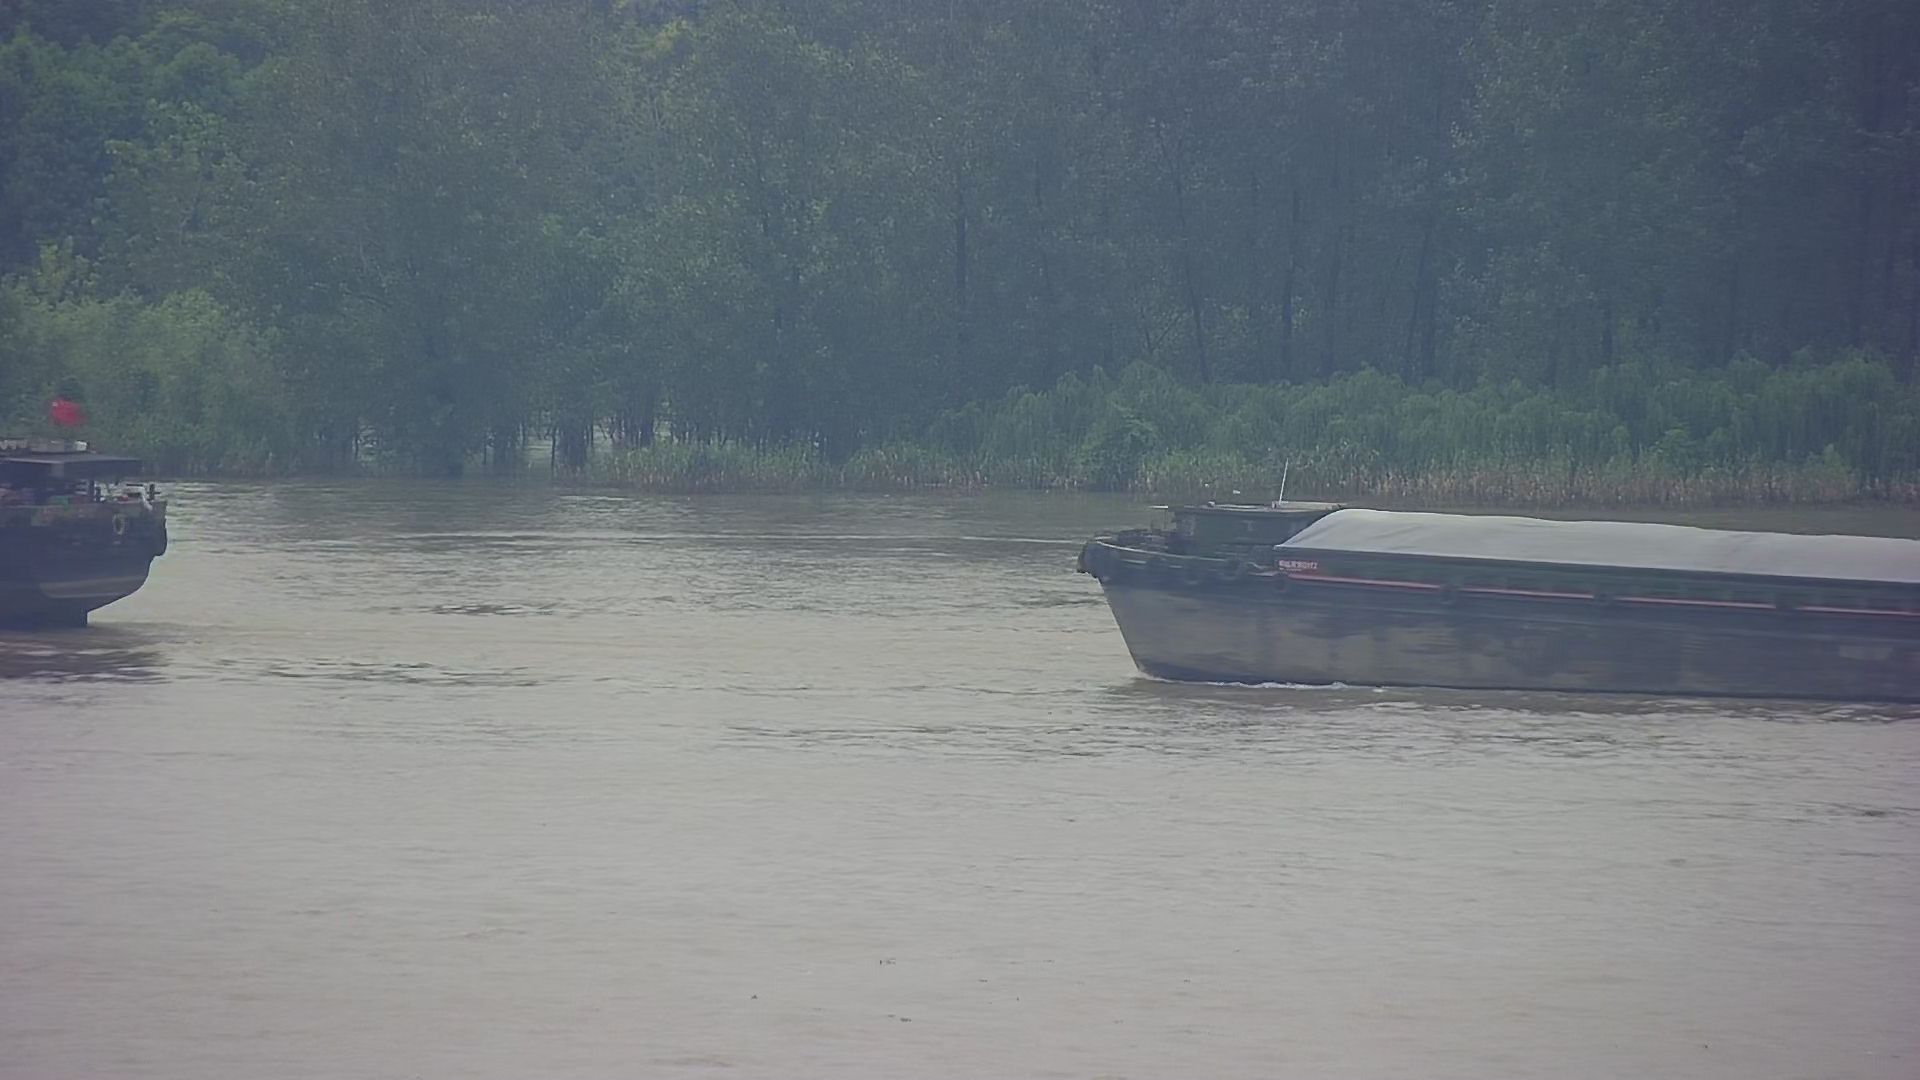ship: (1072, 495, 1920, 699), (1, 396, 171, 626)
